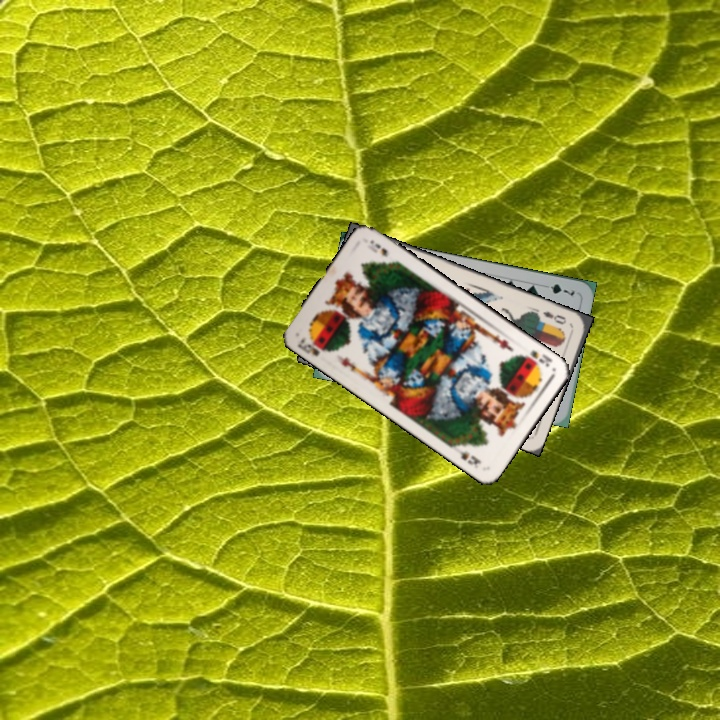EO: (539, 307, 569, 327)
G7: (538, 280, 577, 298)
SK: (294, 333, 333, 359), (526, 346, 555, 370)
